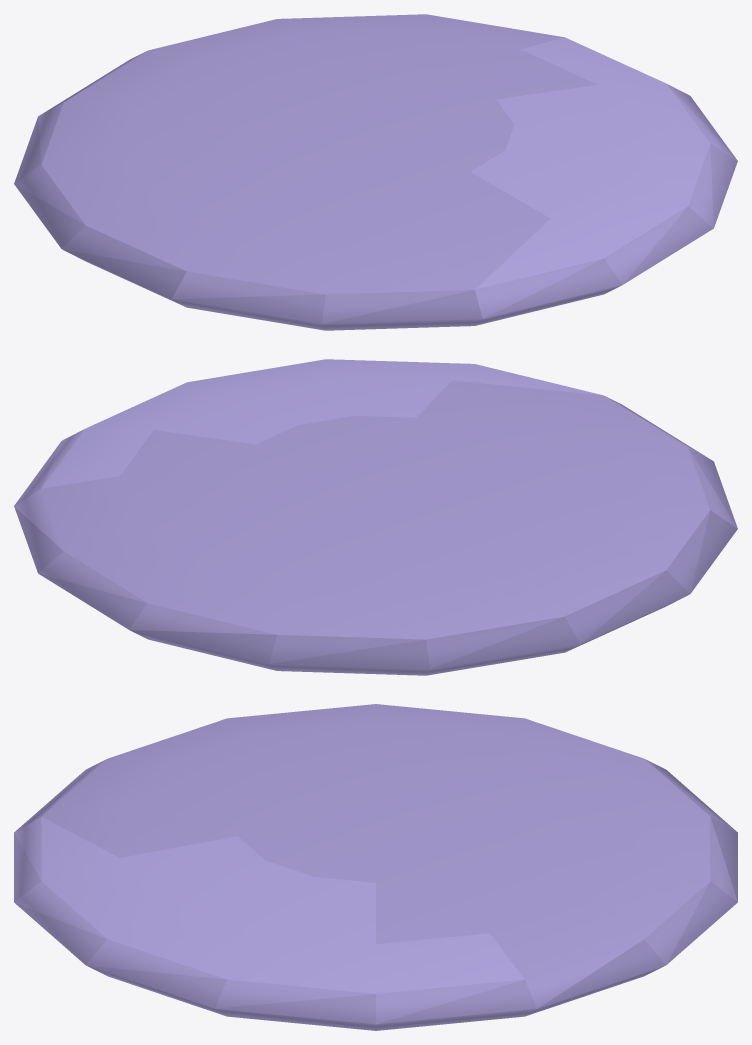
The model's file is jelly.gltf.
The picture shows the model from 3 angles, top to bottom: view 1: azimuth 30°, elevation 25°; view 2: azimuth 150°, elevation 25°; view 3: azimuth 270°, elevation 25°; orthographic projection. The views are drawn at different scales.
Bounding box in the file's own units: 3.2 × 0.46 × 3.12.
1 material, 1 textured.
